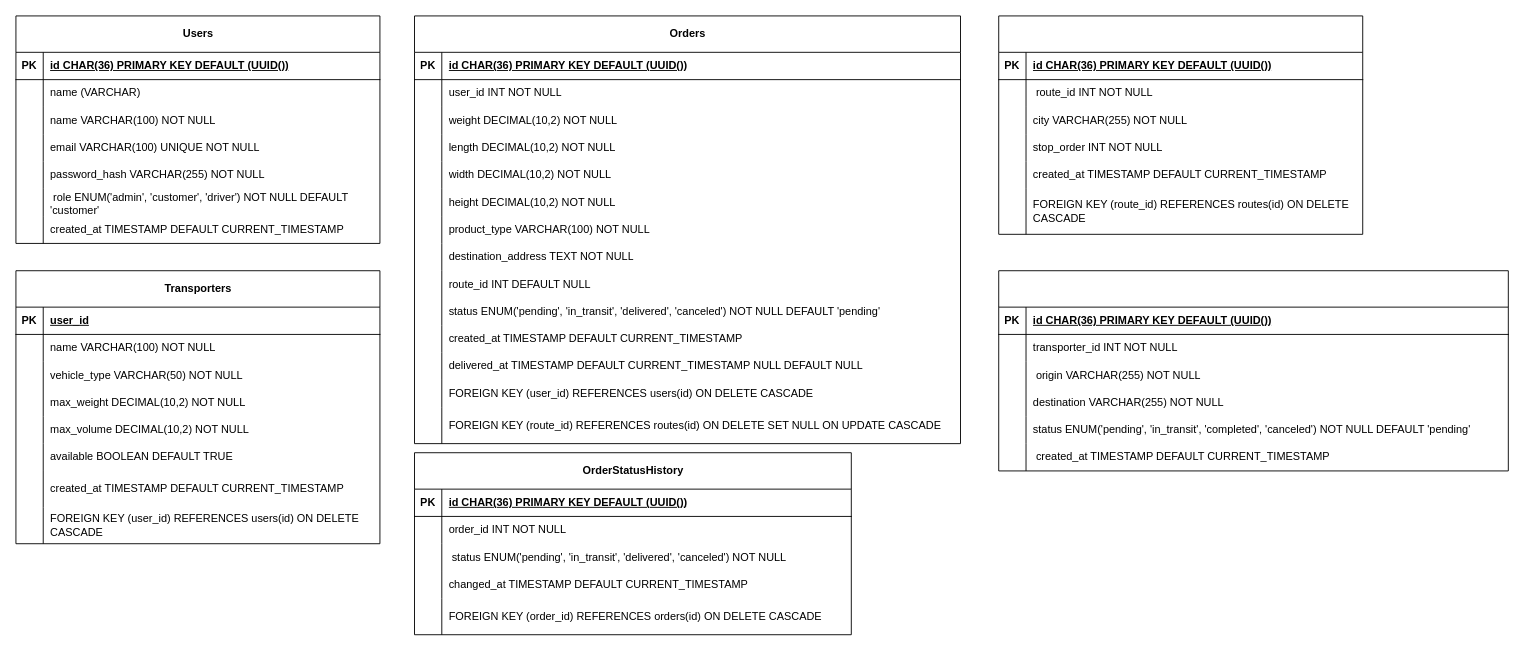
Some shapes in this 1524 by 651 pixel diagram are drawn without their labels. Here are the shapes that lost their labels. From the top down, the box of each, then its label:
(998, 15, 1363, 234): Route Stops
(998, 270, 1508, 471): Routes
